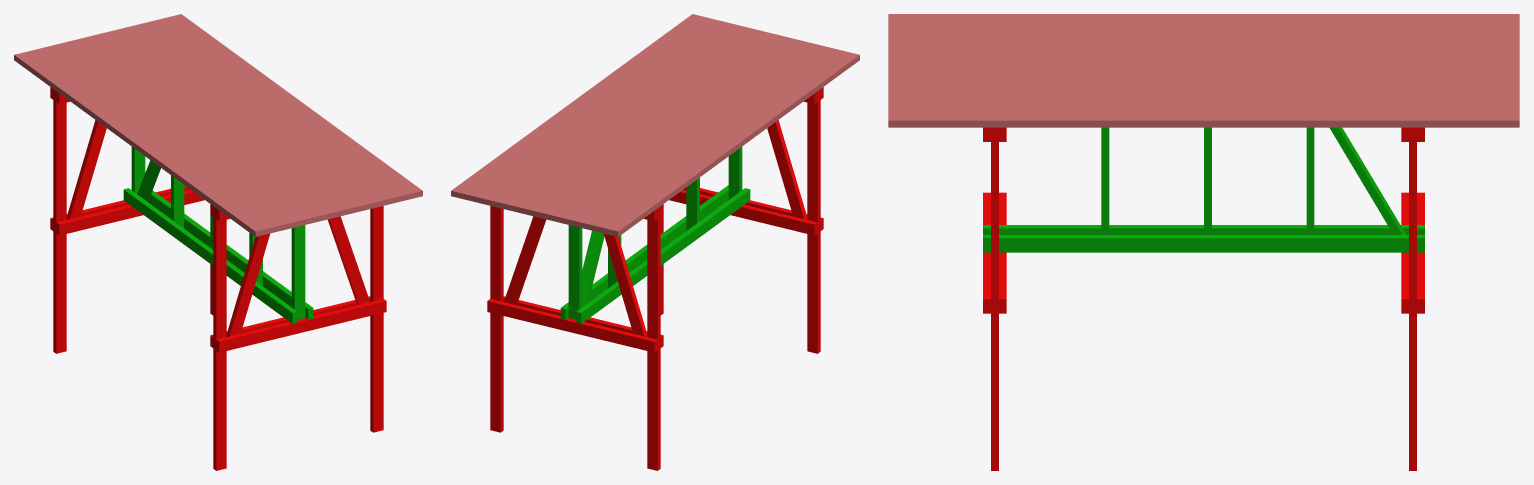
The model's file is result.glb.
3 renders of one model, left to right at view 1: azimuth 30°, elevation 25°; view 2: azimuth 150°, elevation 25°; view 3: azimuth 270°, elevation 25°, orthographic. The views are drawn at different scales.
Parts seen in each view (by area): view 1: cdeed0a9-9528-42ac-9569-7197bc27fd95__Box, 66040e8c-ce7b-44e0-ac60-039e1a4c64cc__sideV, 459ac63b-f6fa-4dc5-b51d-1b67e86cd757__undefined, d8b82ad1-ec42-4081-9711-0c8489465f0b__sideV, d03add50-daca-4c3a-86b7-5458d6c456aa__undefined, da9cce10-2b0f-468b-8205-92aacba6507c__undefined, 03dafa9d-5b98-46c6-a75d-e3ab985a98e4__undefined, ec8cbae5-6da2-4253-88c0-838517cfb48c__undefined, f37b2621-a26d-4b98-a052-0d444ebb1074__undefined, aac7aede-820e-4caf-bce3-47aead40596f__undefined, 33a0b26e-6255-4fab-be49-c37837d1f085__undefined, 0da99366-d19b-4a3d-9644-02c6ed32e1fa__undefined (+20 smaller); view 2: cdeed0a9-9528-42ac-9569-7197bc27fd95__Box, 459ac63b-f6fa-4dc5-b51d-1b67e86cd757__undefined, 66040e8c-ce7b-44e0-ac60-039e1a4c64cc__sideV, 787d4b41-5627-4c5f-a94b-9cc7dab9eb04__undefined, d03add50-daca-4c3a-86b7-5458d6c456aa__undefined, da9cce10-2b0f-468b-8205-92aacba6507c__undefined, 03dafa9d-5b98-46c6-a75d-e3ab985a98e4__undefined, ec8cbae5-6da2-4253-88c0-838517cfb48c__undefined, f37b2621-a26d-4b98-a052-0d444ebb1074__undefined, aac7aede-820e-4caf-bce3-47aead40596f__undefined, 33a0b26e-6255-4fab-be49-c37837d1f085__undefined, 0da99366-d19b-4a3d-9644-02c6ed32e1fa__undefined (+20 smaller); view 3: cd39d5a0-225e-4a25-88a1-ef2a0c74deeb__undefined, 3f59919e-e4e0-4e76-a222-16bda5e53f20__strutH, da9cce10-2b0f-468b-8205-92aacba6507c__undefined, f37b2621-a26d-4b98-a052-0d444ebb1074__undefined, d03add50-daca-4c3a-86b7-5458d6c456aa__undefined, a42844e6-edb1-4696-b146-7df4bd23c73c__undefined, 03dafa9d-5b98-46c6-a75d-e3ab985a98e4__undefined, cdeed0a9-9528-42ac-9569-7197bc27fd95__Box, 2be27fd5-1e30-420f-aa29-5f62b23cfece__undefined, ec8cbae5-6da2-4253-88c0-838517cfb48c__undefined, aac7aede-820e-4caf-bce3-47aead40596f__undefined, 33a0b26e-6255-4fab-be49-c37837d1f085__undefined (+16 smaller).
Part boxes in pixels (<box>): cdeed0a9-9528-42ac-9569-7197bc27fd95__Box: <box>14,52,265,236</box>; 66040e8c-ce7b-44e0-ac60-039e1a4c64cc__sideV: <box>213,206,226,470</box>; 459ac63b-f6fa-4dc5-b51d-1b67e86cd757__undefined: <box>53,89,66,353</box>; d8b82ad1-ec42-4081-9711-0c8489465f0b__sideV: <box>370,206,383,432</box>; d03add50-daca-4c3a-86b7-5458d6c456aa__undefined: <box>88,34,339,218</box>; da9cce10-2b0f-468b-8205-92aacba6507c__undefined: <box>25,50,276,234</box>; 03dafa9d-5b98-46c6-a75d-e3ab985a98e4__undefined: <box>150,19,401,203</box>; ec8cbae5-6da2-4253-88c0-838517cfb48c__undefined: <box>45,44,297,229</box>; f37b2621-a26d-4b98-a052-0d444ebb1074__undefined: <box>56,42,307,226</box>; aac7aede-820e-4caf-bce3-47aead40596f__undefined: <box>67,39,318,223</box>; 33a0b26e-6255-4fab-be49-c37837d1f085__undefined: <box>77,37,328,221</box>; 0da99366-d19b-4a3d-9644-02c6ed32e1fa__undefined: <box>108,29,359,213</box>; cdeed0a9-9528-42ac-9569-7197bc27fd95__Box: <box>608,52,859,236</box>; 459ac63b-f6fa-4dc5-b51d-1b67e86cd757__undefined: <box>647,206,660,470</box>; 66040e8c-ce7b-44e0-ac60-039e1a4c64cc__sideV: <box>807,89,820,353</box>; 787d4b41-5627-4c5f-a94b-9cc7dab9eb04__undefined: <box>490,206,503,432</box>; d03add50-daca-4c3a-86b7-5458d6c456aa__undefined: <box>534,34,785,218</box>; da9cce10-2b0f-468b-8205-92aacba6507c__undefined: <box>597,50,848,234</box>; 03dafa9d-5b98-46c6-a75d-e3ab985a98e4__undefined: <box>472,19,723,203</box>; ec8cbae5-6da2-4253-88c0-838517cfb48c__undefined: <box>576,44,828,229</box>; f37b2621-a26d-4b98-a052-0d444ebb1074__undefined: <box>566,42,817,226</box>; aac7aede-820e-4caf-bce3-47aead40596f__undefined: <box>555,39,806,223</box>; 33a0b26e-6255-4fab-be49-c37837d1f085__undefined: <box>545,37,796,221</box>; 0da99366-d19b-4a3d-9644-02c6ed32e1fa__undefined: <box>514,29,765,213</box>; cd39d5a0-225e-4a25-88a1-ef2a0c74deeb__undefined: <box>888,114,1519,127</box>; 3f59919e-e4e0-4e76-a222-16bda5e53f20__strutH: <box>983,235,1424,252</box>; da9cce10-2b0f-468b-8205-92aacba6507c__undefined: <box>888,20,1519,27</box>; f37b2621-a26d-4b98-a052-0d444ebb1074__undefined: <box>888,40,1519,47</box>; d03add50-daca-4c3a-86b7-5458d6c456aa__undefined: <box>888,60,1519,67</box>; a42844e6-edb1-4696-b146-7df4bd23c73c__undefined: <box>888,80,1519,87</box>; 03dafa9d-5b98-46c6-a75d-e3ab985a98e4__undefined: <box>888,100,1519,107</box>; cdeed0a9-9528-42ac-9569-7197bc27fd95__Box: <box>888,14,1519,20</box>; 2be27fd5-1e30-420f-aa29-5f62b23cfece__undefined: <box>888,27,1519,33</box>; ec8cbae5-6da2-4253-88c0-838517cfb48c__undefined: <box>888,34,1519,40</box>; aac7aede-820e-4caf-bce3-47aead40596f__undefined: <box>888,47,1519,53</box>; 33a0b26e-6255-4fab-be49-c37837d1f085__undefined: <box>888,54,1519,60</box>.
Bounding box in the file's own units: 800 × 1225 × 2000.
